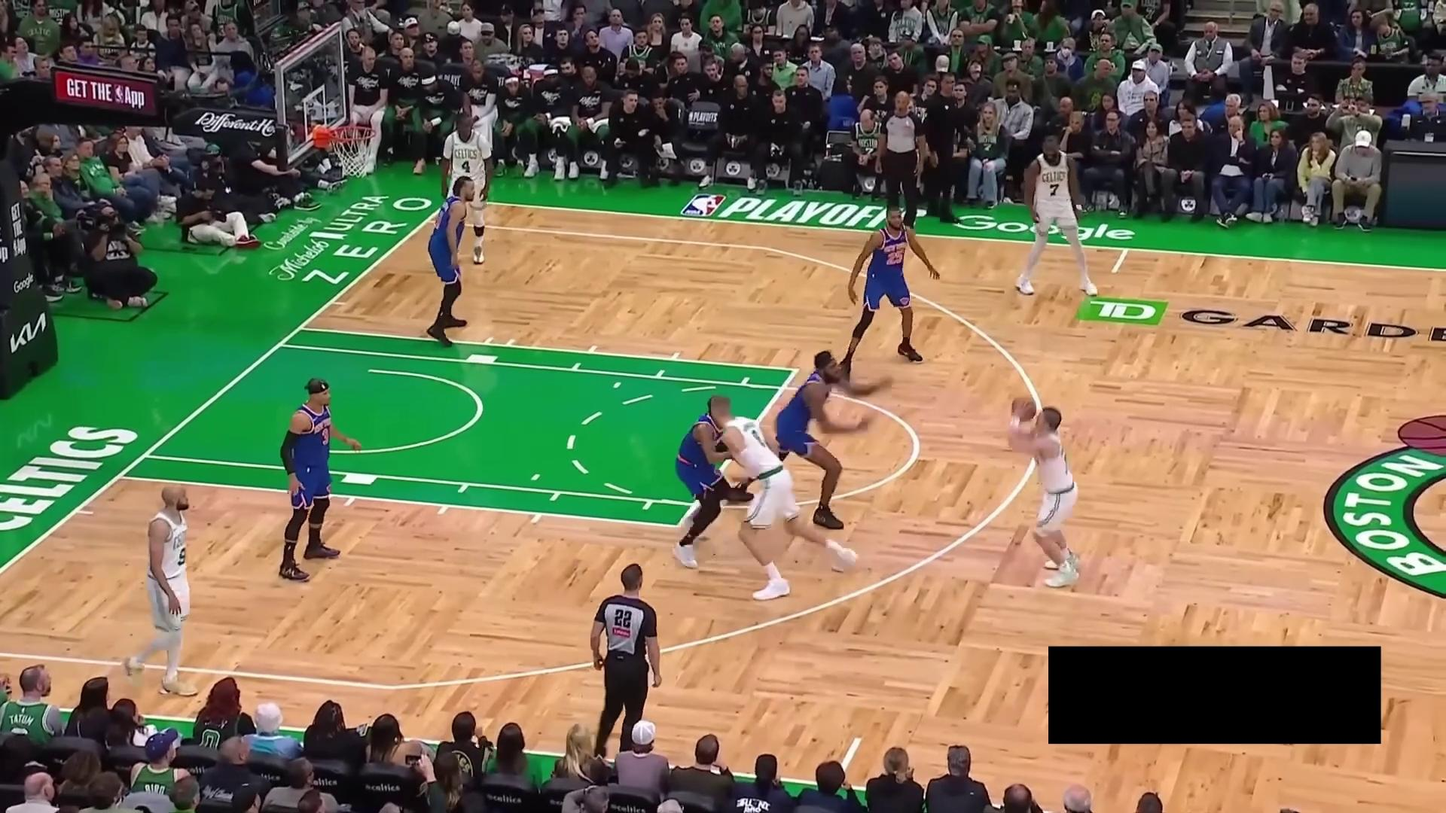ball: (1010, 394, 1036, 423), (529, 760, 530, 764)
number: (885, 247, 905, 266), (320, 426, 331, 446), (177, 546, 187, 567), (1048, 181, 1060, 198), (461, 158, 472, 173)
player: (725, 347, 897, 536), (710, 390, 860, 601), (838, 198, 942, 384), (276, 372, 363, 585), (122, 480, 204, 698), (1017, 132, 1099, 298), (664, 393, 732, 570), (436, 108, 497, 266), (425, 175, 477, 348)
player-in-possession: (1008, 396, 1092, 590)
referee: (586, 559, 667, 762), (876, 90, 933, 238)
rim: (326, 124, 378, 144)
